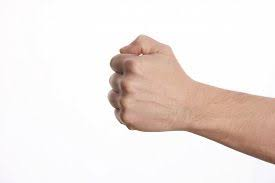fist: (113, 33, 188, 140)
